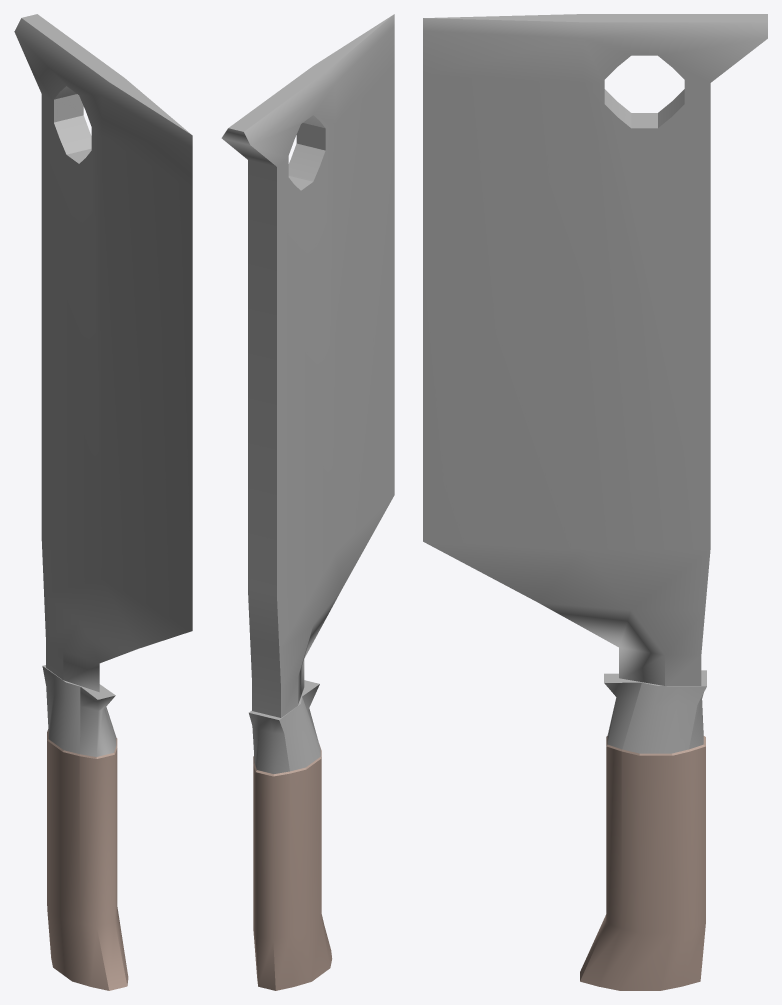
File: Cleaver.fbx
The picture shows the model from 3 angles, left to right: view 1: azimuth 30°, elevation 25°; view 2: azimuth 150°, elevation 25°; view 3: azimuth 270°, elevation 25°; orthographic projection. The views are drawn at different scales.
Visible parts, largest first — view 1: pCube8; view 2: pCube8; view 3: pCube8.
Boxes of the visible parts, box(x1,y1,x2,y2) form: pCube8: box(14, 14, 192, 990); pCube8: box(221, 14, 394, 990); pCube8: box(423, 14, 767, 990).
Size of the model in its own units: 0.9541 by 15.19 by 4.95.
